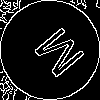M: (25, 25, 87, 87)
